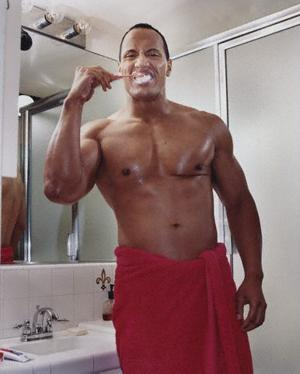person: (41, 24, 267, 373)
